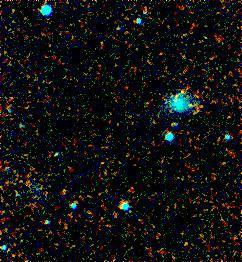star: (165, 74, 195, 104)
